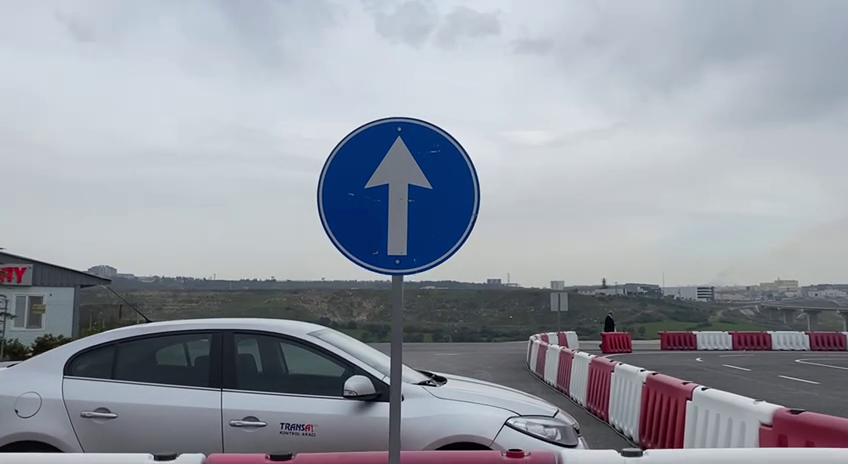forward: (316, 113, 484, 279)
